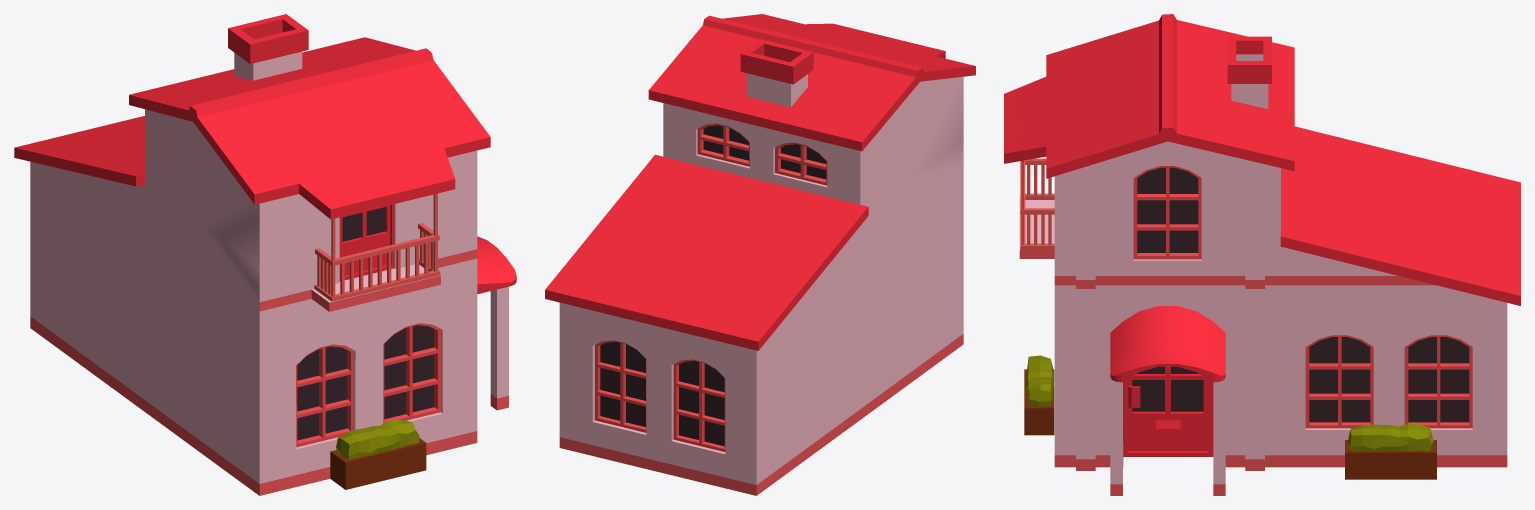
File: house_4.glb
3 renders of one model, left to right at view 1: azimuth 30°, elevation 25°; view 2: azimuth 150°, elevation 25°; view 3: azimuth 270°, elevation 25°, orthographic. The views are drawn at different scales.
Parts seen in each view (by area): view 1: PublicBuilding_6; view 2: PublicBuilding_6; view 3: PublicBuilding_6.
Part boxes in pixels (x1,y1,x2,y2): PublicBuilding_6: (14,14,516,495); PublicBuilding_6: (545,14,975,495); PublicBuilding_6: (1004,14,1520,495).
Bounding box in the file's own units: 2.74 × 3.23 × 4.16.
1 material, 1 textured.
